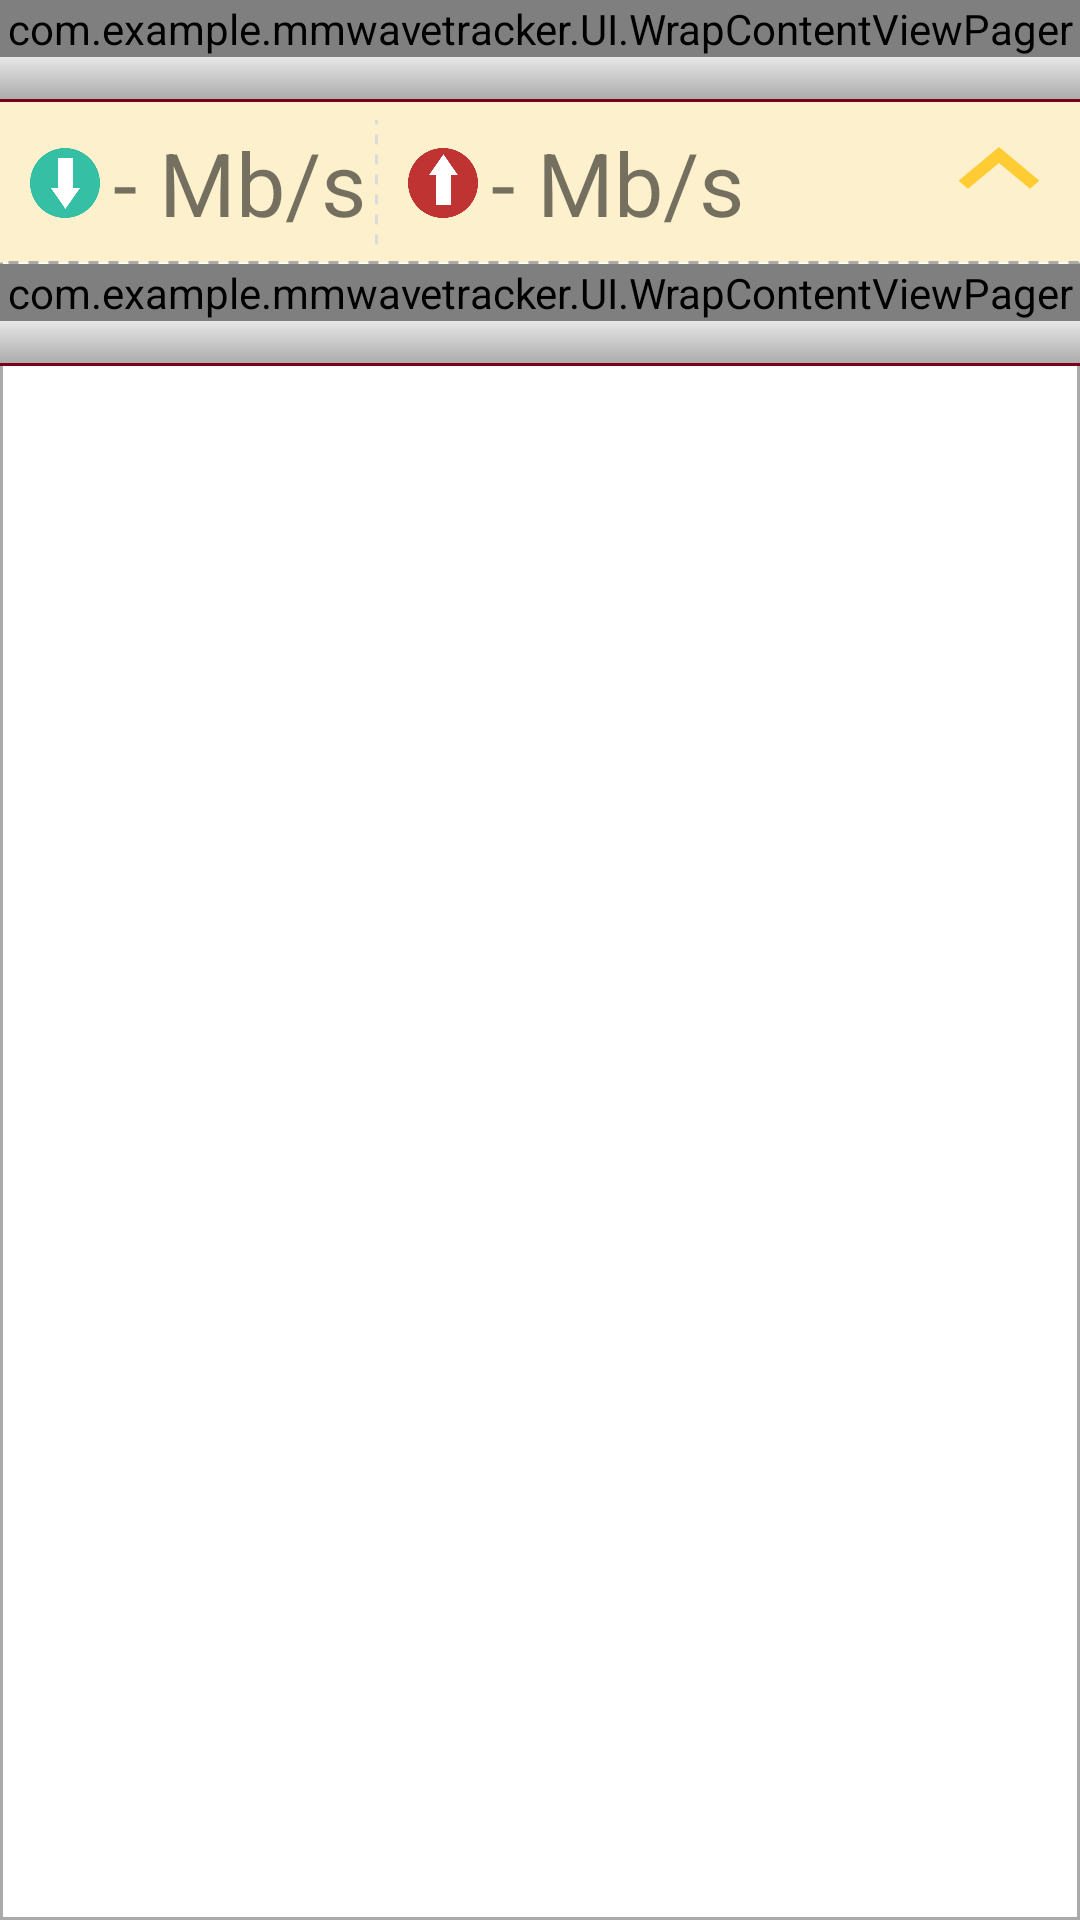

Where to tap for icons on this 1080px x 1920px app screen, as point (x, y):
download speed: point (65, 183)
upload speed: point (443, 183)
